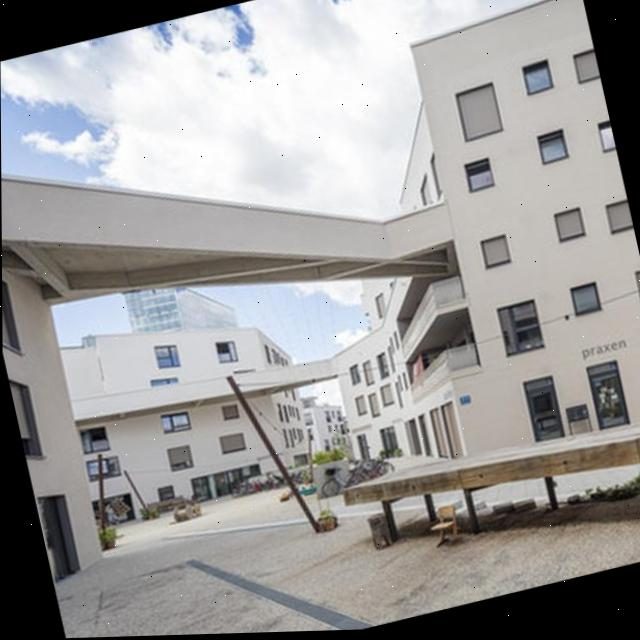building: (262, 0, 640, 547), (50, 281, 330, 535), (1, 152, 106, 582), (121, 260, 248, 354)
